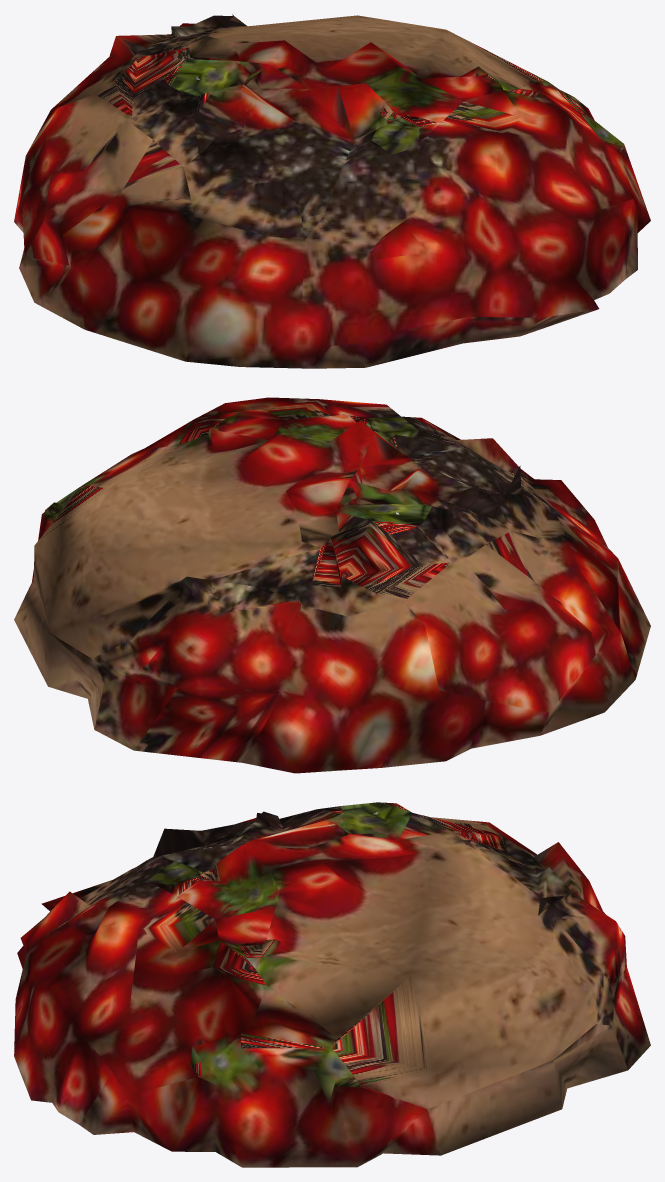
Rendered from cake_strawberry.glb.
The picture shows the model from 3 angles, top to bottom: view 1: azimuth 30°, elevation 25°; view 2: azimuth 150°, elevation 25°; view 3: azimuth 270°, elevation 25°; orthographic projection. The views are drawn at different scales.
Visible parts, largest first — view 1: cake_strawberry; view 2: cake_strawberry; view 3: cake_strawberry.
Part boxes in pixels (x1=…): cake_strawberry: x1=14, y1=14, x2=650, y2=368; cake_strawberry: x1=14, y1=397, x2=650, y2=773; cake_strawberry: x1=14, y1=802, x2=650, y2=1167.
Bounding box in the file's own units: 0.2421 × 0.0766 × 0.2348.
Materials: 1 (1 with a texture image).
